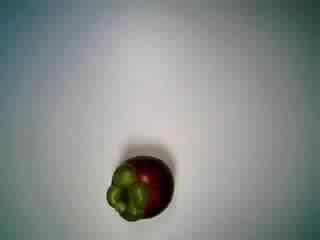mangosteen: (102, 151, 180, 221)
